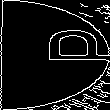P_W: (4, 36, 106, 74)
